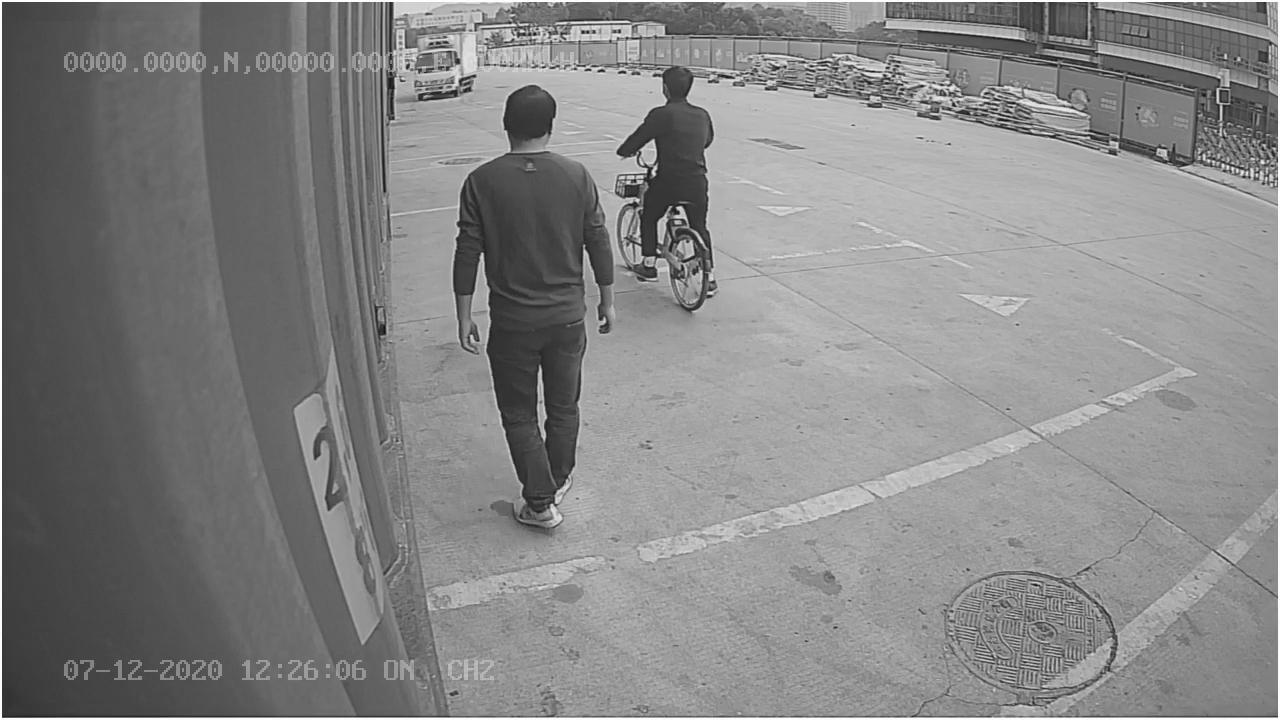person: (448, 82, 622, 536)
